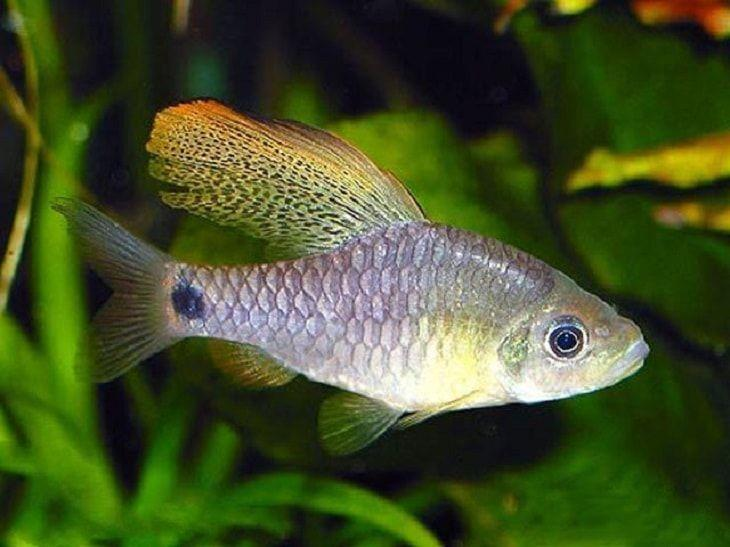Black Spotted Barb: (53, 79, 659, 461)
